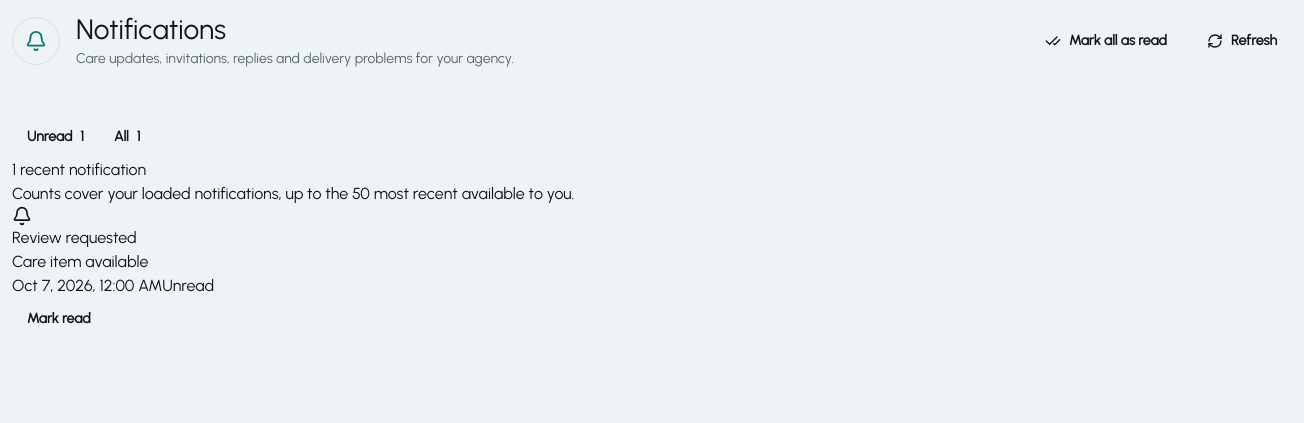
Test: marks only the selected notification read on the server and clears the unread filter after refresh
This screenshot has width=1304, height=423.
Later steps or results of the test are not shown.
Step 1. Click the button "Unread 1" → [56, 137], box [12,116,99,158]
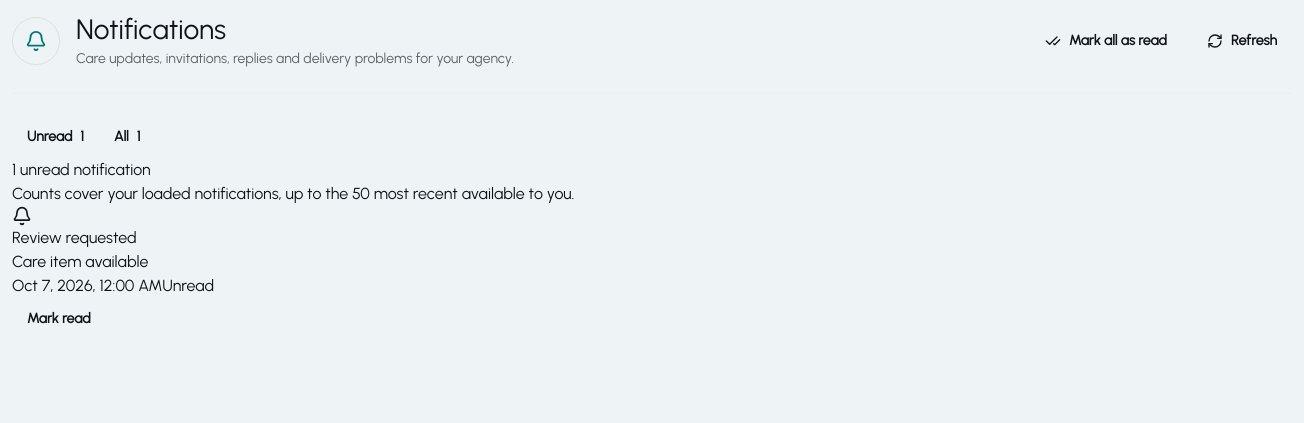
Step 2. Click the button with aria-label "Mark read: Review requested" → [59, 319], box [12,298,106,340]
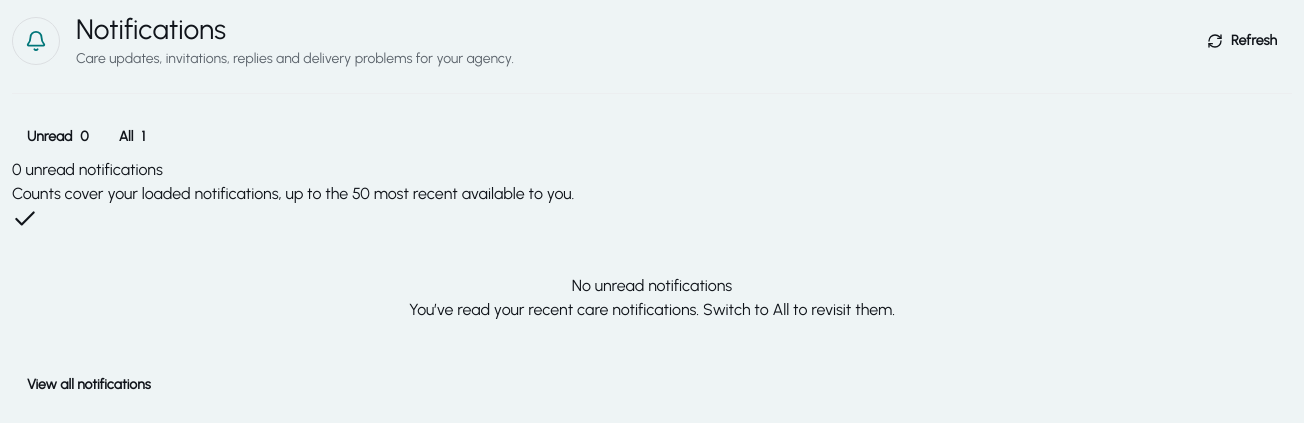
Check: the heading "No unread notifications" is shown, box [572,276,732,295]
Step 3. Click the button "View all notifications" → [89, 385], box [12,364,166,406]
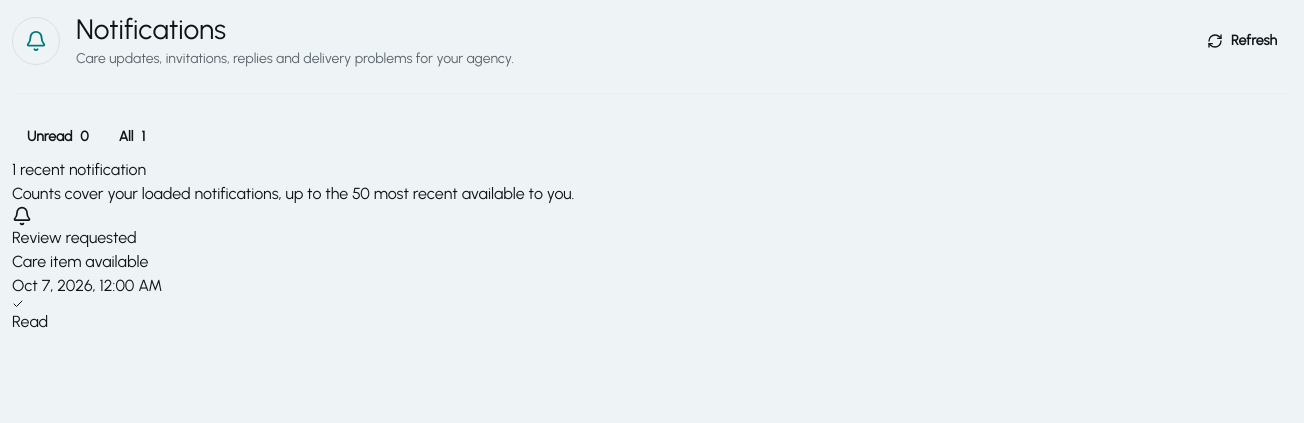
Check: the text "Read" is shown, box [12,298,48,331]
Check: the element "Review requested" is shown, box [12,206,162,331]
